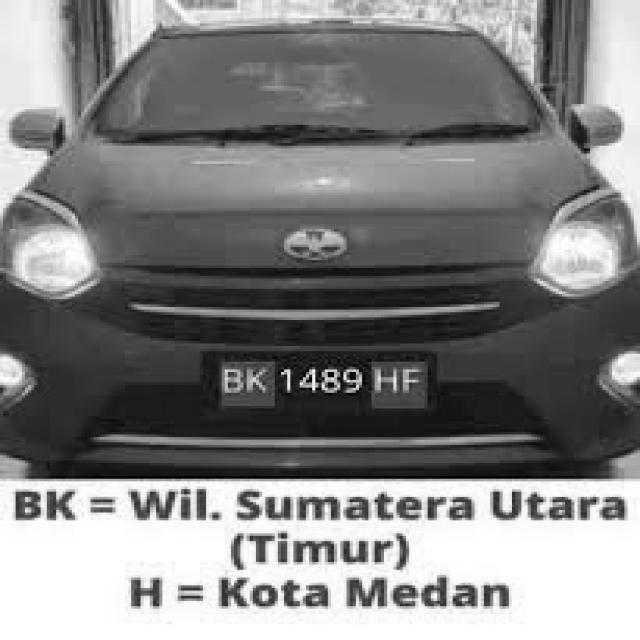1: (278, 365, 296, 398)
4: (296, 364, 322, 398)
8: (320, 363, 344, 400)
9: (343, 362, 369, 400)
B: (223, 366, 244, 396)
F: (398, 365, 428, 400)
H: (373, 370, 401, 396)
K: (244, 366, 270, 398)
